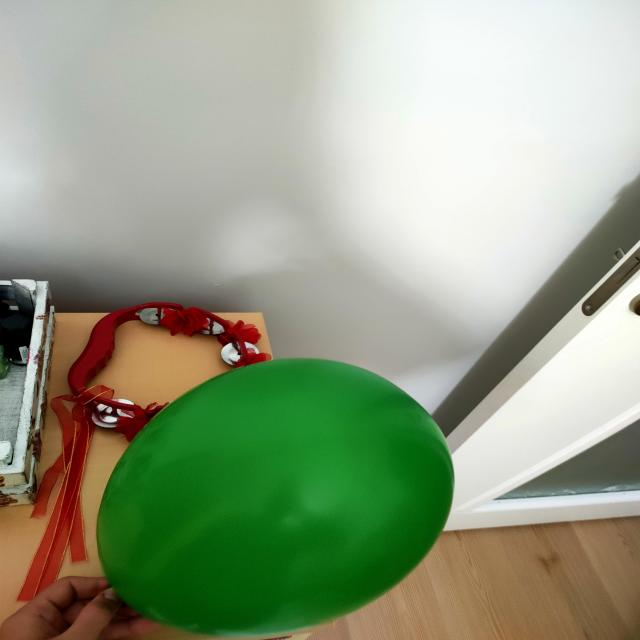green: (100, 357, 457, 637)
